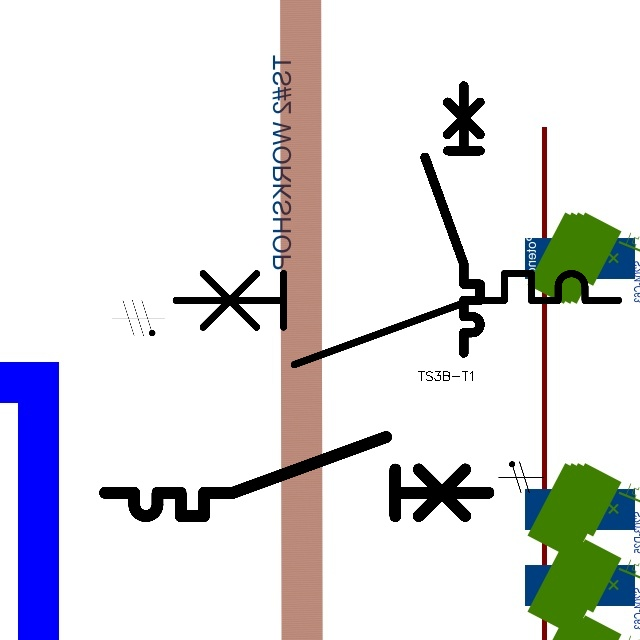interruptor_termomagnetico: (164, 262, 629, 376), (95, 427, 498, 526), (418, 79, 487, 360)
